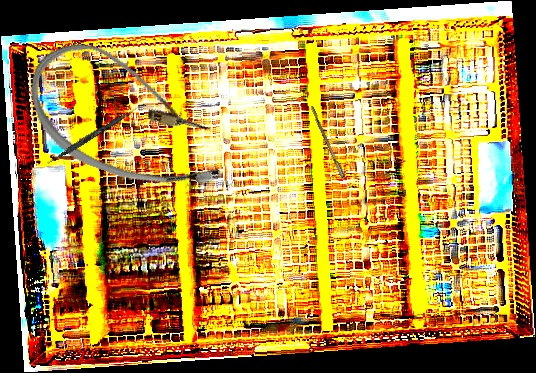Cannula: (10, 29, 248, 209)
Spatula Surgical: (46, 99, 146, 168)
Surgical Spoon: (308, 105, 358, 204)
